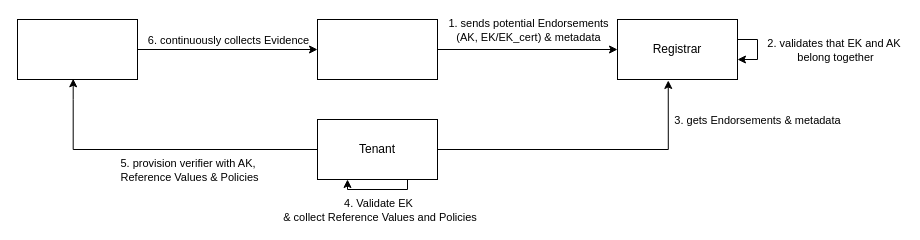
The diagram is 920 pixels wide and 240 high, and some of its shapes have lost their labels. Here are the shapes that lost their labels. From the top down, the centre of each, then its label:
At (77,49): "Verifier".
At (377,49): "Agent".
